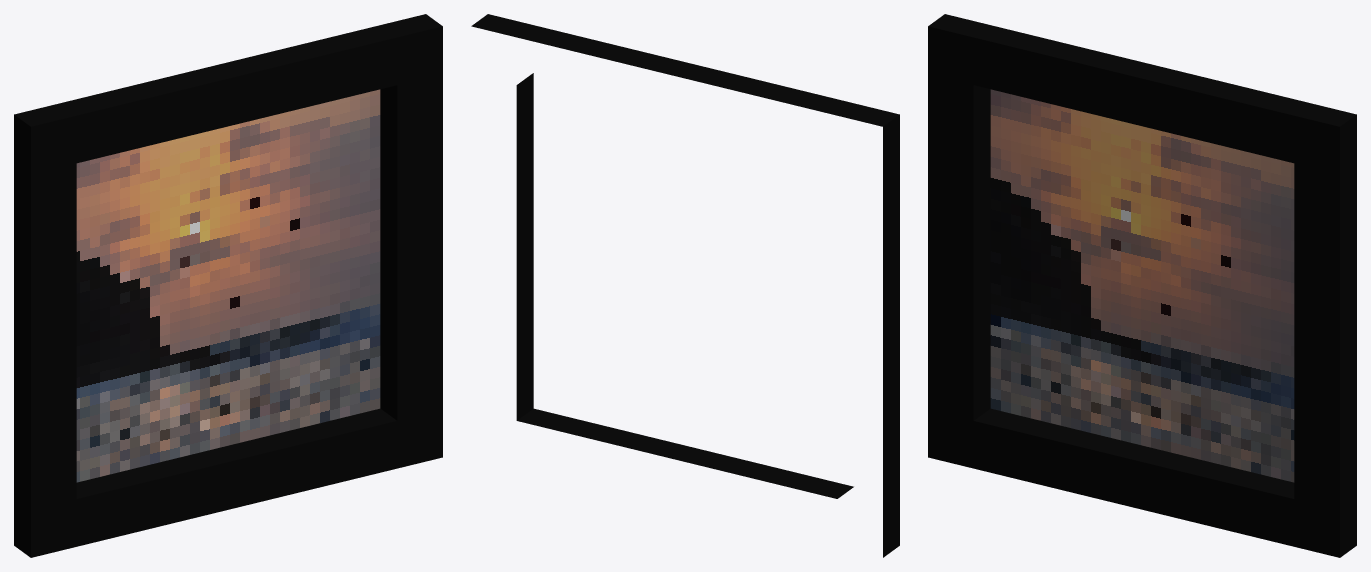
File: Room5_Painting.glb
The picture shows the model from 3 angles, left to right: view 1: azimuth 30°, elevation 25°; view 2: azimuth 150°, elevation 25°; view 3: azimuth 330°, elevation 25°; orthographic projection.
Parts seen in each view (by area): view 1: Canvas, Frame.003; view 2: Frame.003; view 3: Canvas, Frame.003.
Boxes of the visible parts, x1,y1,x2,y2 form: Canvas: (76, 89, 380, 482); Frame.003: (14, 14, 442, 557); Frame.003: (471, 14, 899, 557); Canvas: (990, 89, 1294, 482); Frame.003: (928, 14, 1356, 557).
Bounding box in the file's own units: 1.28 × 1.28 × 0.0912.
2 materials, 1 textured.
